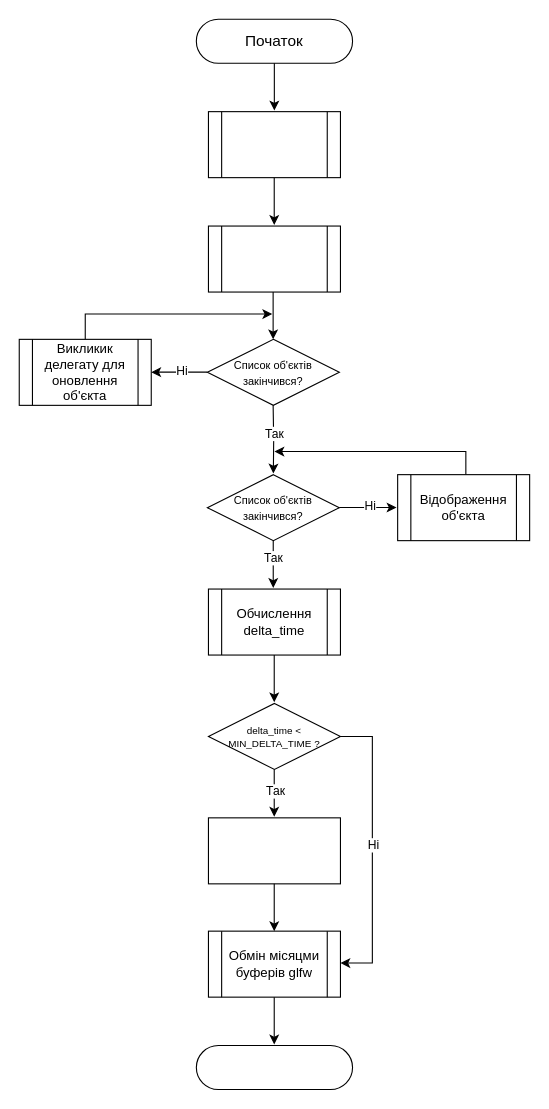
The diagram is 549 pixels wide and 1109 high, and some of its shapes have lost their labels. The shapes that lost their labels are listed below. From the top down, each one's centre as x and y in pixels, then its label:
(x=273, y=144): Оновлення ширини та висоти вьюпорту
(x=273, y=258): Очищення буферів кольору та глибини
(x=273, y=850): delta_time = MIN_DELTA_TIME
(x=274, y=1067): Кінець
